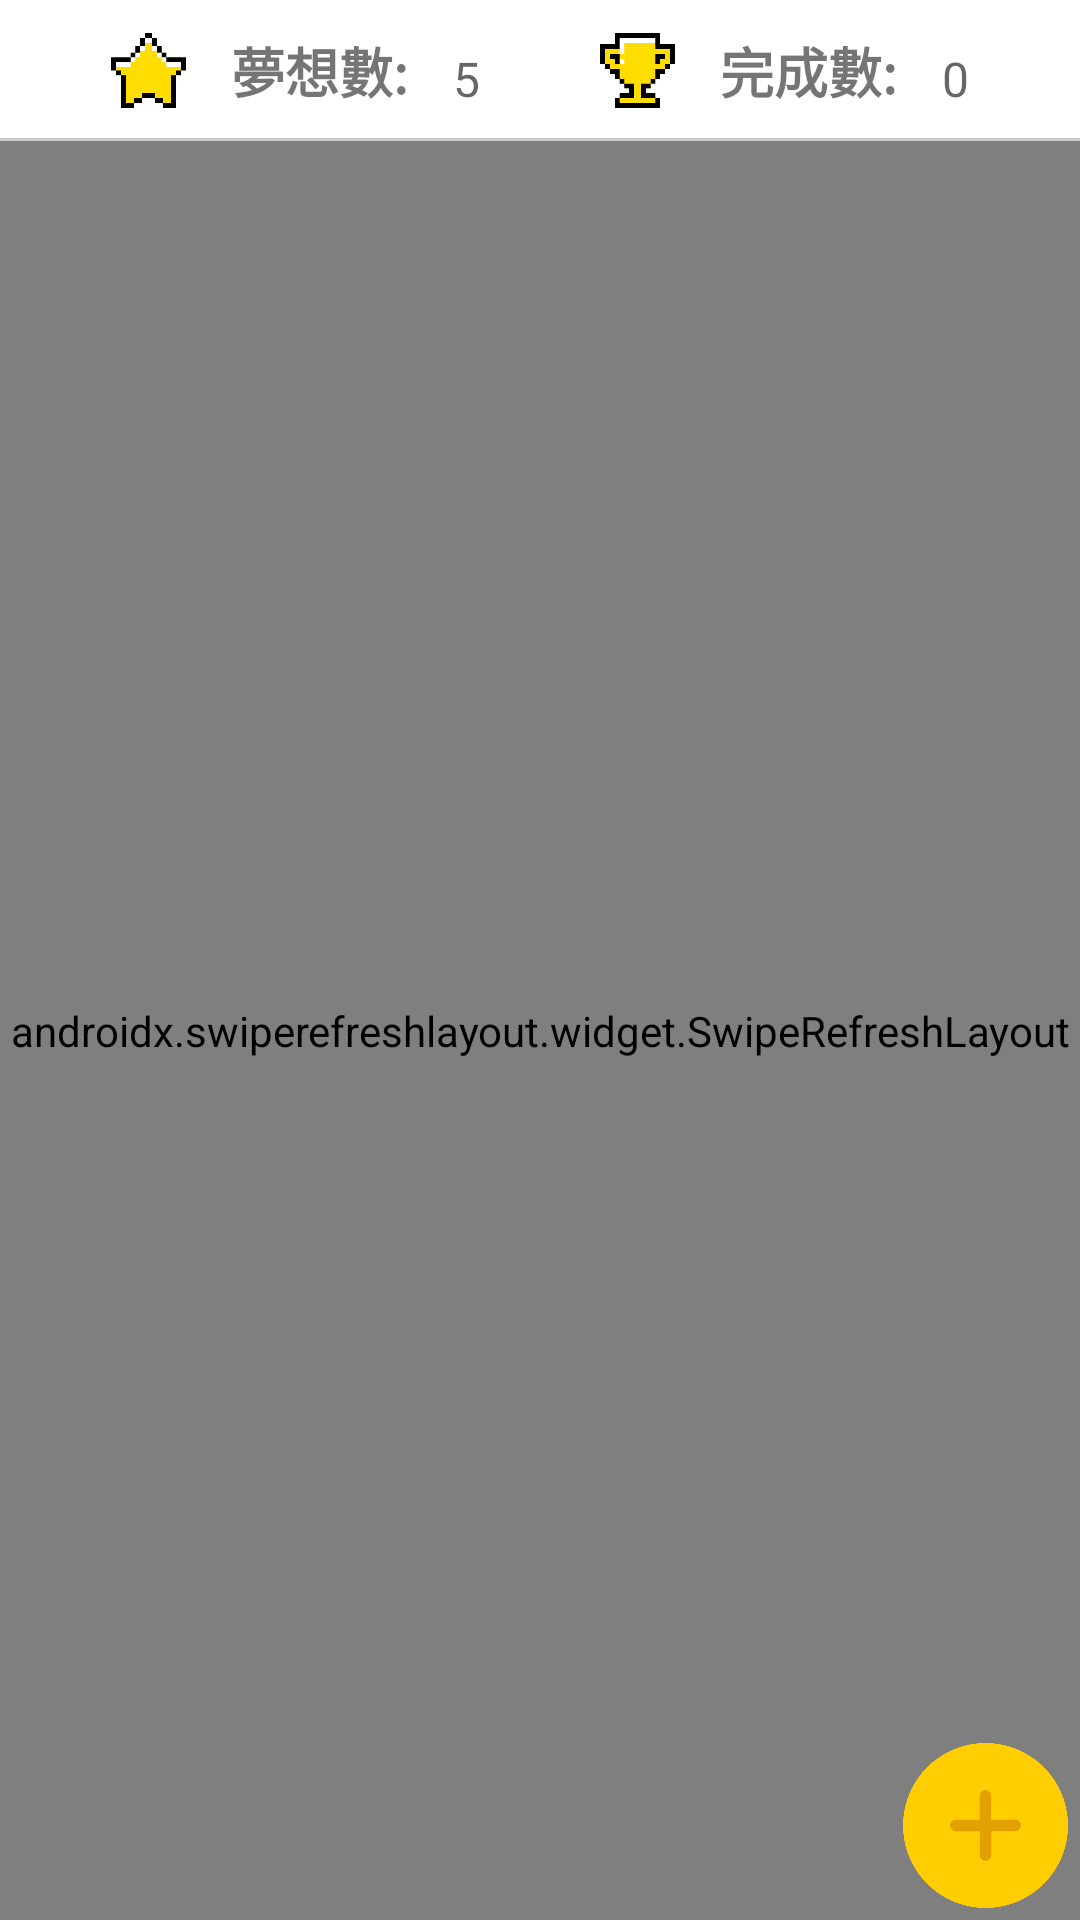

Named icons in this screenshot (1080px×1920px) and their bounding boxes, (x1, y1, x2, y2):
home add yellowplus: (903, 1743, 1068, 1908)
star pixel: (111, 33, 186, 108)
trophy gold: (600, 33, 675, 108)
